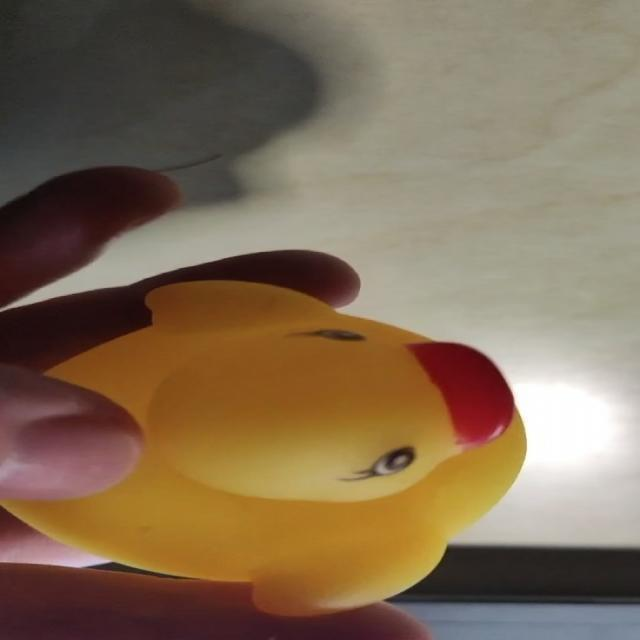rubber-duck: (3, 280, 524, 613)
